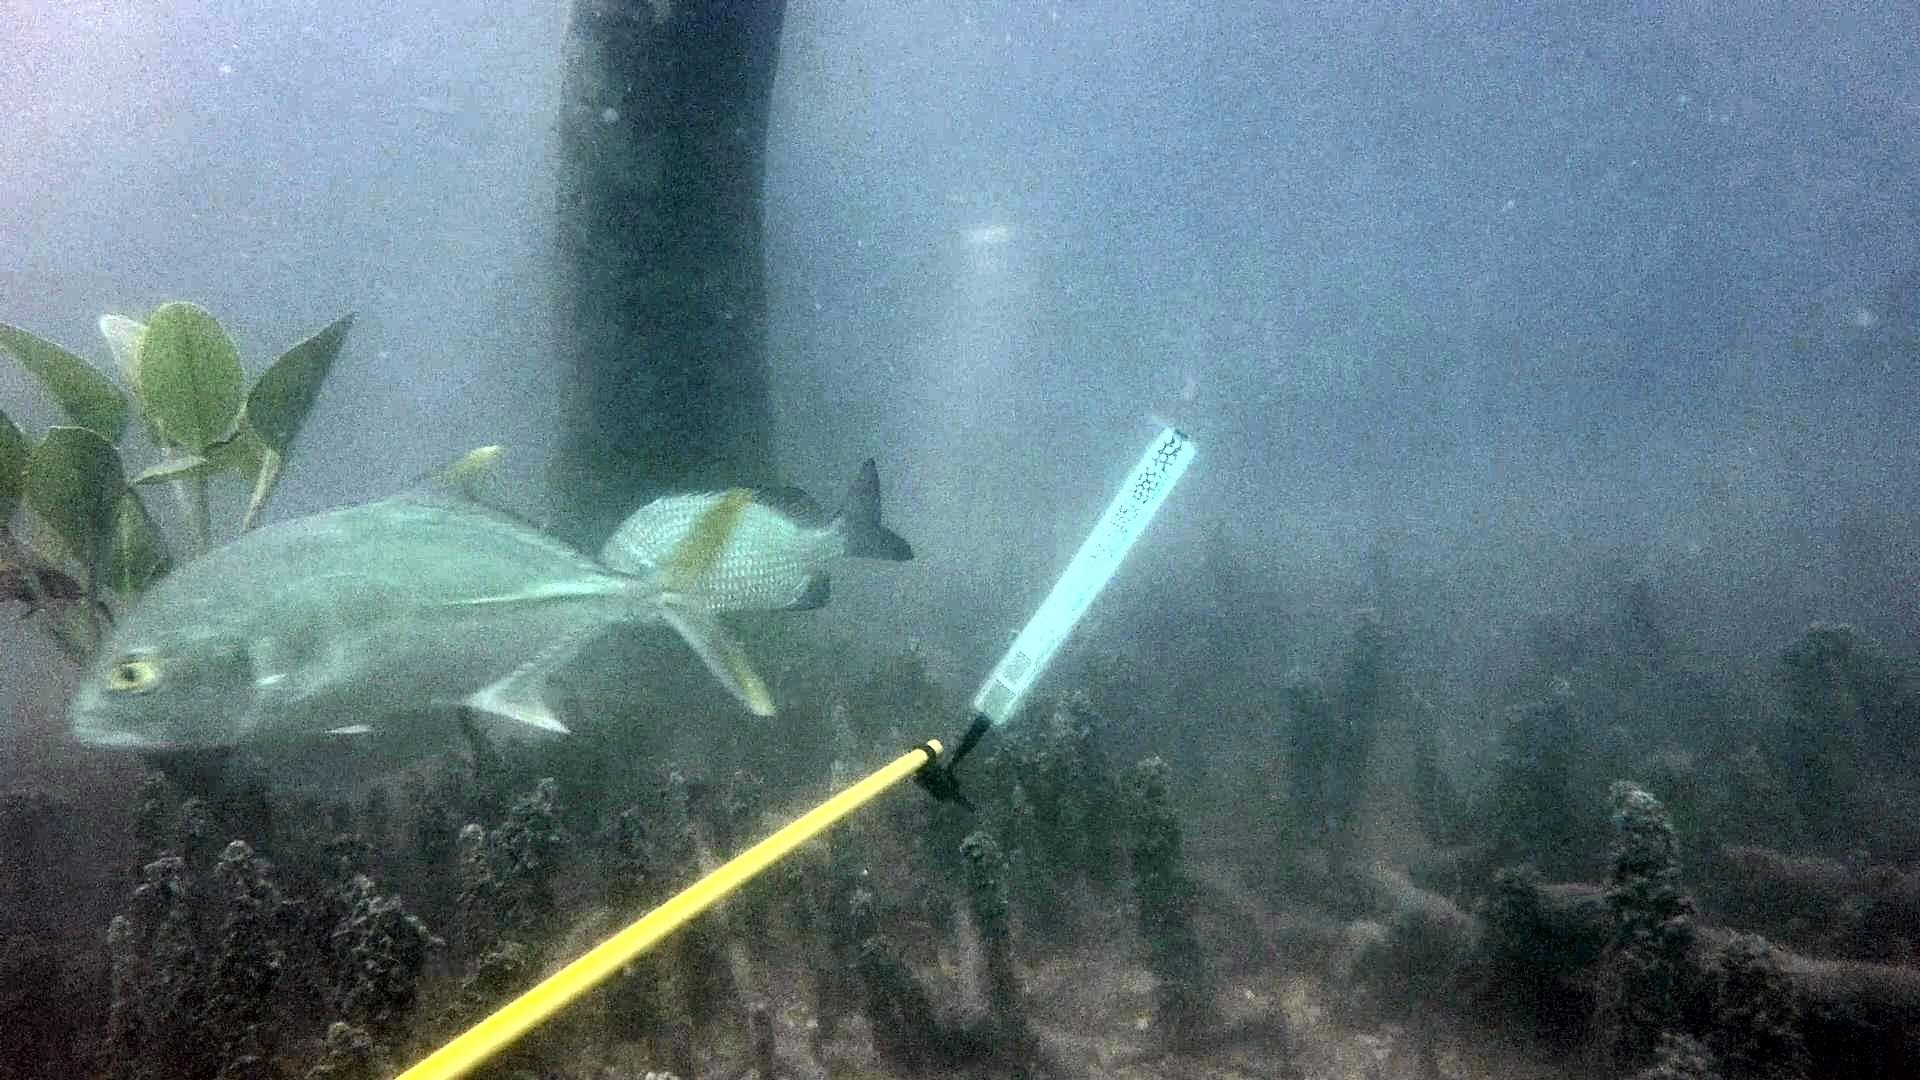acanthopagrus palmaris: (611, 451, 918, 640)
caranx: (54, 438, 789, 764)
